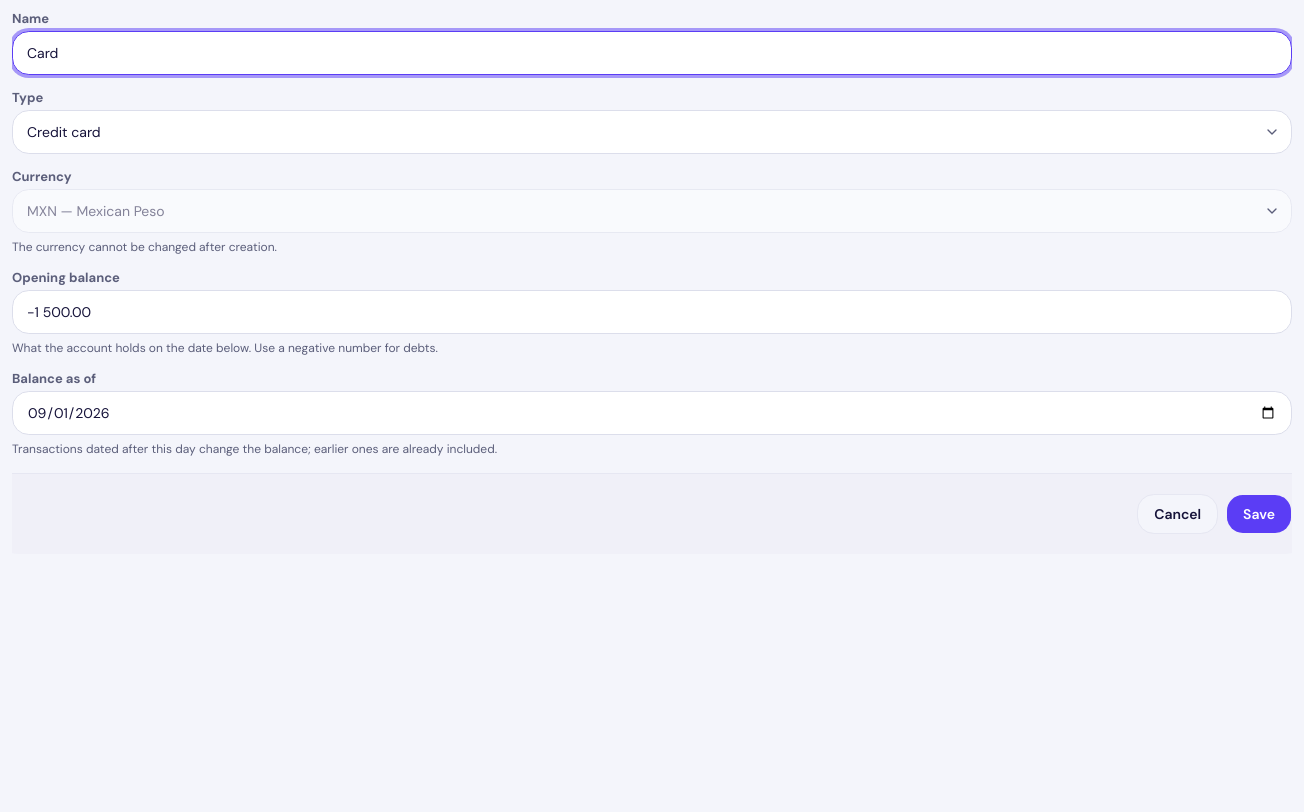
Scenario: AccountForm › locks the currency when editing and shows server errors
Expected: the dropdown labelled "Currency" is disabled, [12,189,1292,233]
Expected: the text "The currency cannot be changed after creation." is shown, [12,239,277,255]
Click the button "Save" at (1259, 514), box [1226,494,1292,534]
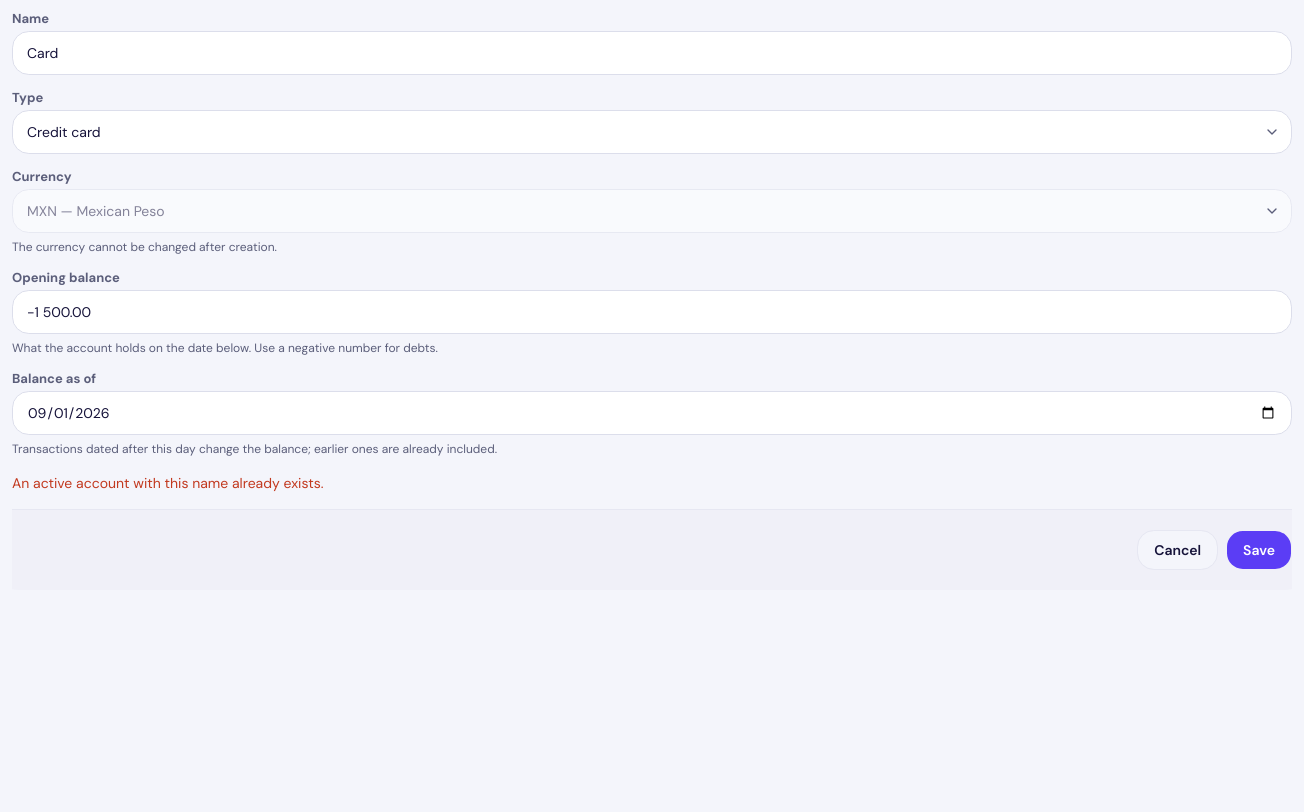
Expected: the text "An active account with this name already exists." is shown, [12,474,324,492]
